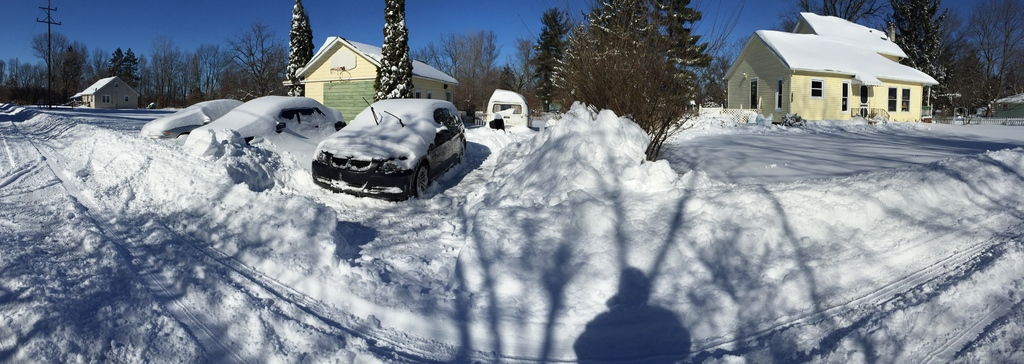Car: (309, 94, 454, 188), (188, 97, 344, 158), (138, 97, 242, 133)
